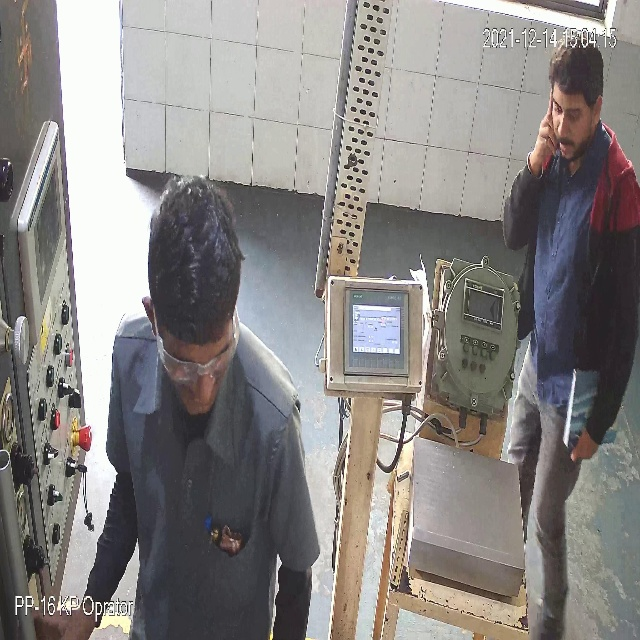Sin_gafas: (552, 96, 584, 127)
Sin_mascara: (552, 120, 587, 160)
